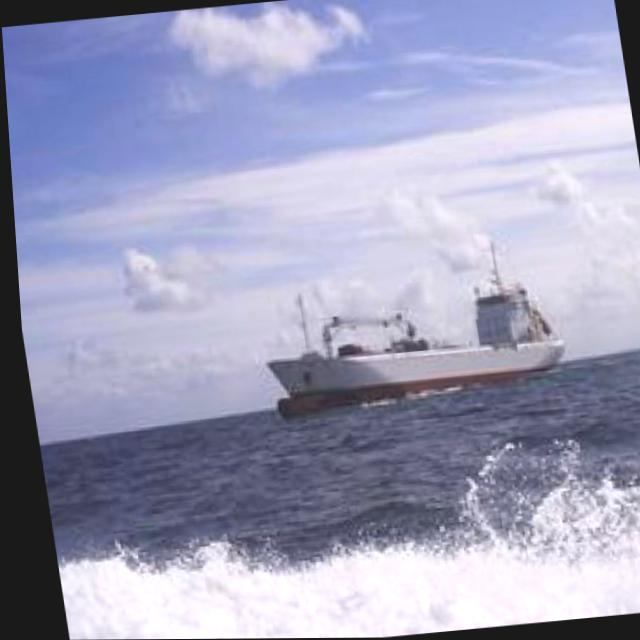ship2: (259, 241, 560, 419)
